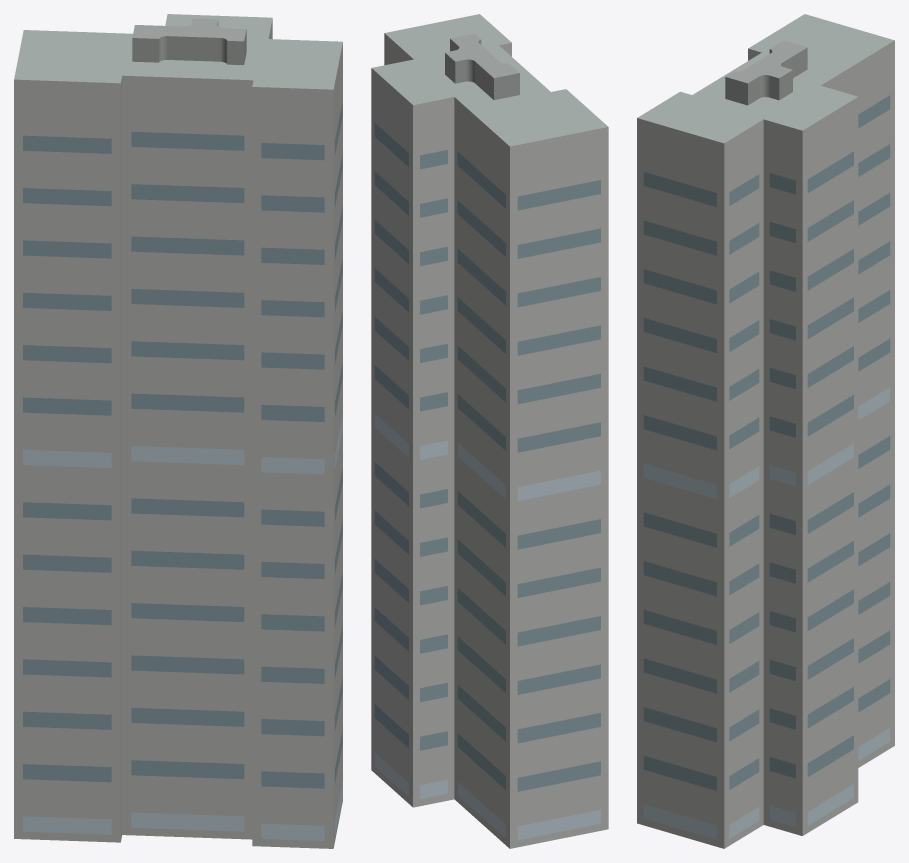
Rendered from fallback-lake-palace-110.glb.
The picture shows the model from 3 angles, left to right: view 1: azimuth 30°, elevation 25°; view 2: azimuth 150°, elevation 25°; view 3: azimuth 270°, elevation 25°; orthographic projection. The views are drawn at different scales.
Parts seen in each view (by area): view 1: fallback-lake-palace-110; view 2: fallback-lake-palace-110; view 3: fallback-lake-palace-110.
Part boxes in pixels (<box>): fallback-lake-palace-110: <box>14,14,342,848</box>; fallback-lake-palace-110: <box>371,14,608,848</box>; fallback-lake-palace-110: <box>637,14,894,848</box>.
Bounding box in the file's own units: 30.15 × 79 × 25.36.
